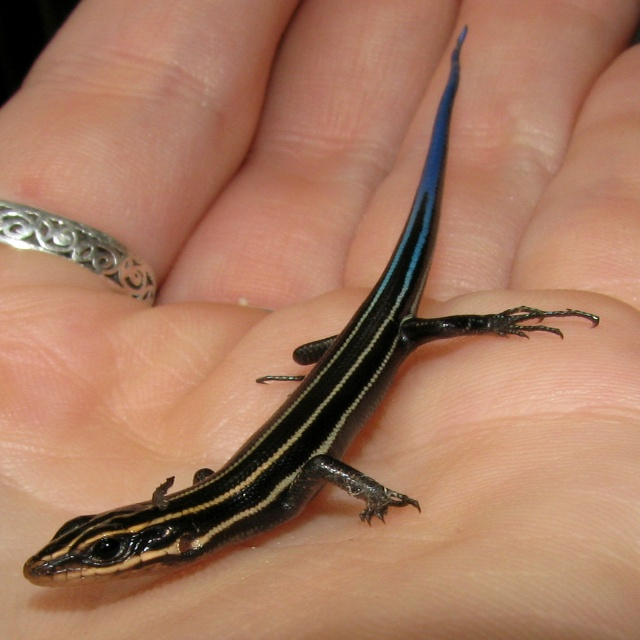Lizard: (20, 29, 598, 587)
